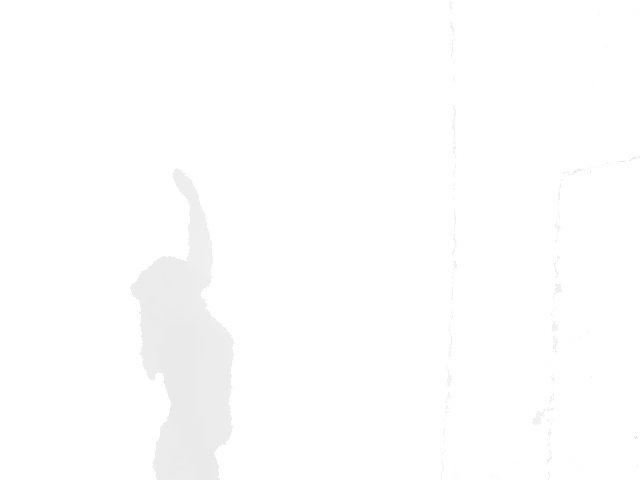hand: (171, 166, 201, 202)
head: (144, 255, 202, 312)
person: (130, 166, 236, 480)
